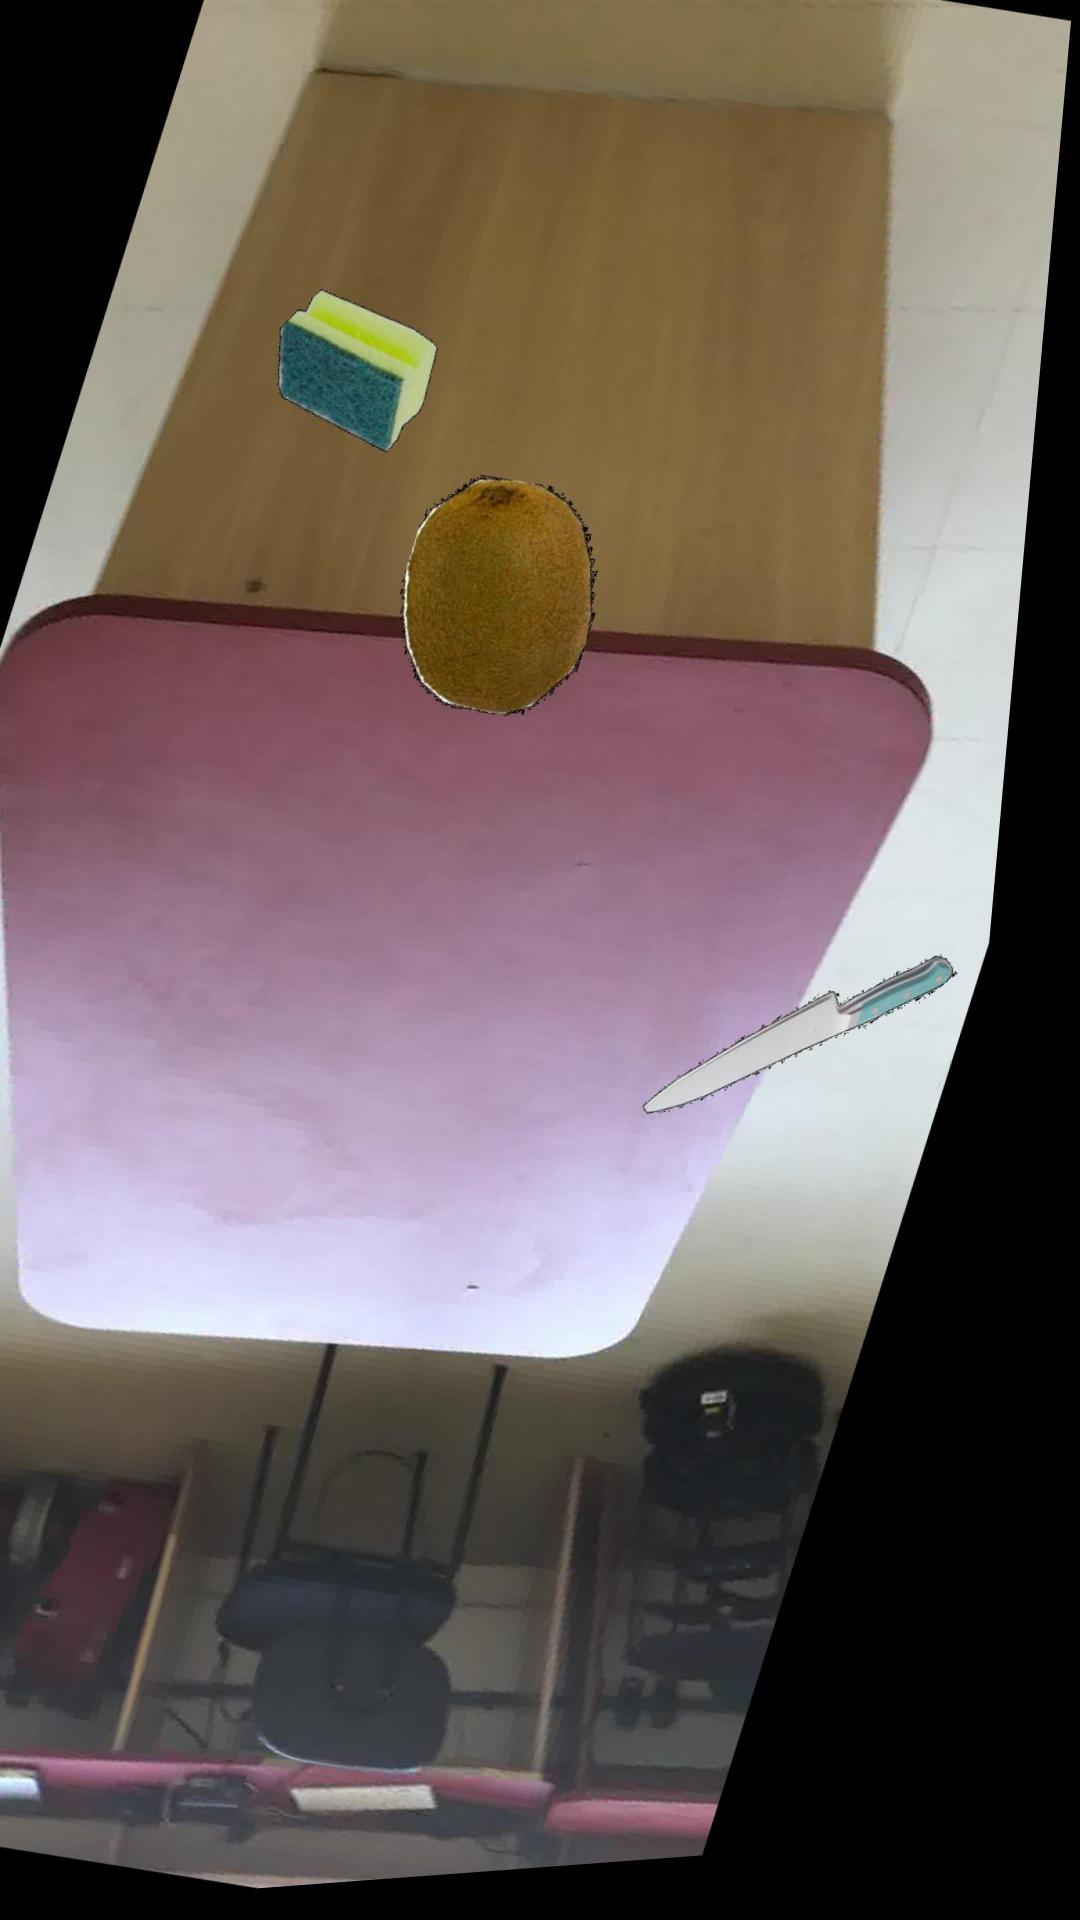kiwi: (410, 484, 605, 724)
knife: (662, 972, 972, 1125)
sponge: (282, 294, 443, 459)
